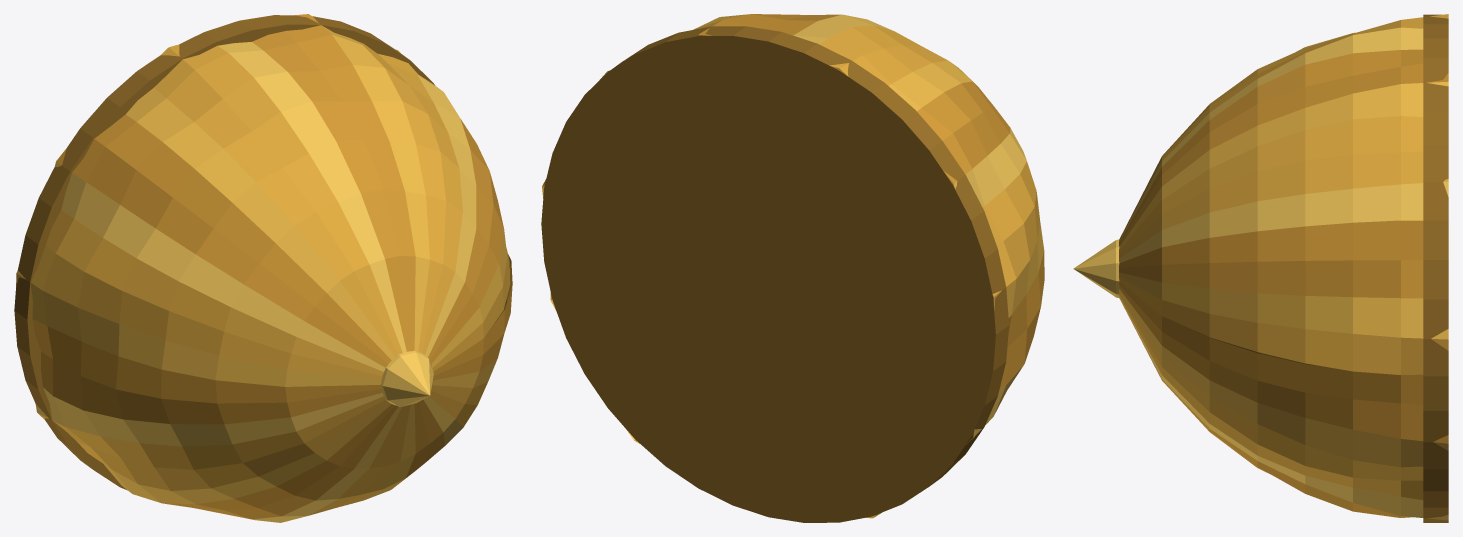
The model's file is meule.glb.
3 views of the same model, side by side, from view 1: azimuth 30°, elevation 25°; view 2: azimuth 150°, elevation 25°; view 3: azimuth 270°, elevation 25° (orthographic). The views are drawn at different scales.
Visible parts, largest first — view 1: ceinture, touche.015, touche.014, touche.016, touche.017, touche.012, touche.013, touche.011, touche.018, touche.019, touche.010, touche.020 (+30 smaller); view 2: ceinture, coeur, touche.015, touche.014, touche.016, touche.017, touche.013, touche.012, touche.011, touche.018, touche.020, touche.019 (+4 smaller); view 3: ceinture, touche.003, touche.002, touche.001, touche, touche.004, touche.005, touche.006, touche.039, touche.038, touche.037, touche.007 (+10 smaller).
Part boxes in pixels (bbox=[...]): ceinture: bbox=[14, 15, 435, 490]; touche.015: bbox=[56, 139, 388, 367]; touche.014: bbox=[94, 114, 391, 363]; touche.016: bbox=[54, 161, 385, 371]; touche.017: bbox=[45, 210, 383, 376]; touche.012: bbox=[154, 47, 398, 357]; touche.013: bbox=[126, 88, 394, 359]; touche.011: bbox=[169, 44, 402, 354]; touche.018: bbox=[16, 246, 382, 380]; touche.019: bbox=[16, 273, 381, 386]; touche.010: bbox=[217, 42, 406, 352]; touche.020: bbox=[32, 319, 381, 403]; ceinture: bbox=[541, 26, 1008, 522]; coeur: bbox=[554, 49, 983, 510]; touche.015: bbox=[943, 107, 1010, 183]; touche.014: bbox=[917, 81, 994, 140]; touche.016: bbox=[953, 128, 1026, 207]; touche.017: bbox=[983, 161, 1036, 245]; touche.013: bbox=[888, 60, 973, 111]; touche.012: bbox=[840, 45, 947, 85]; touche.011: bbox=[820, 25, 920, 68]; touche.018: bbox=[992, 192, 1039, 296]; touche.020: bbox=[1007, 251, 1044, 346]; touche.019: bbox=[994, 221, 1044, 317]; ceinture: bbox=[1423, 14, 1448, 522]; touche.003: bbox=[1119, 220, 1423, 267]; touche.002: bbox=[1119, 260, 1423, 298]; touche.001: bbox=[1119, 272, 1448, 339]; touche: bbox=[1119, 277, 1448, 374]; touche.004: bbox=[1119, 181, 1448, 262]; touche.005: bbox=[1119, 151, 1448, 258]; touche.006: bbox=[1119, 116, 1423, 253]; touche.039: bbox=[1119, 281, 1423, 404]; touche.038: bbox=[1119, 285, 1448, 443]; touche.037: bbox=[1119, 289, 1448, 467]; touche.007: bbox=[1119, 81, 1448, 250].
Size of the model in its own units: 3.57 by 3.57 by 2.64.
